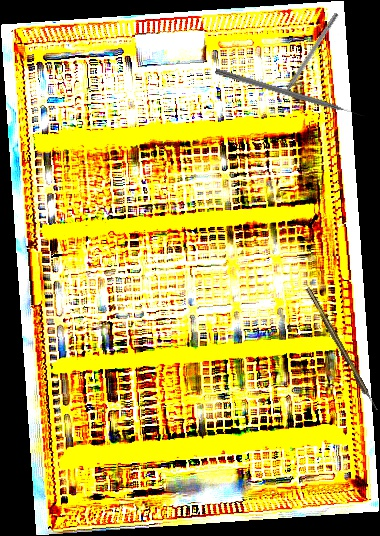Hook Surgical: (305, 286, 379, 413), (214, 67, 366, 121), (273, 11, 340, 109)
